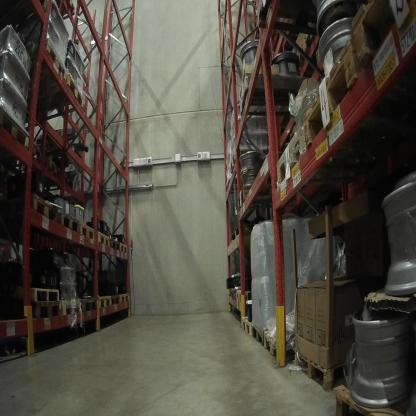pallet: (306, 43, 412, 161), (274, 123, 365, 198), (347, 1, 414, 75), (289, 334, 350, 399), (26, 71, 93, 122), (238, 75, 303, 125), (265, 311, 321, 363), (333, 382, 413, 414), (233, 55, 280, 108), (254, 3, 327, 35), (9, 194, 58, 237), (1, 104, 36, 163), (28, 42, 70, 86), (235, 185, 294, 216), (10, 1, 77, 23), (7, 298, 58, 324), (24, 156, 69, 185), (230, 148, 278, 175), (11, 277, 63, 300), (227, 224, 259, 249), (57, 210, 81, 241), (60, 293, 83, 324), (253, 320, 276, 347), (79, 217, 96, 243), (243, 313, 259, 339), (96, 222, 109, 250), (83, 293, 99, 315), (237, 287, 255, 306), (229, 283, 242, 303), (121, 288, 132, 310), (99, 293, 110, 315), (111, 288, 121, 310), (120, 239, 130, 258), (109, 235, 119, 250)
